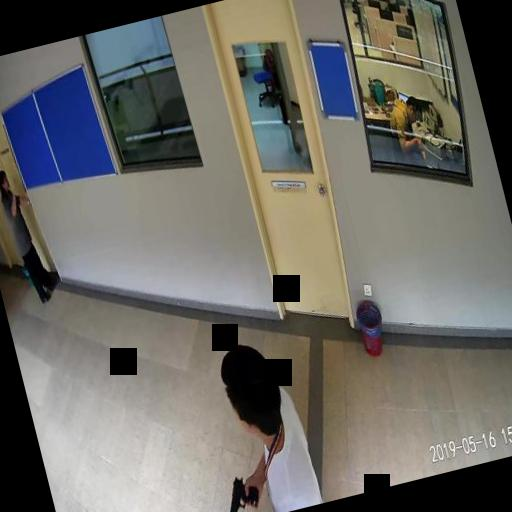Handgun: (218, 472, 262, 512)
